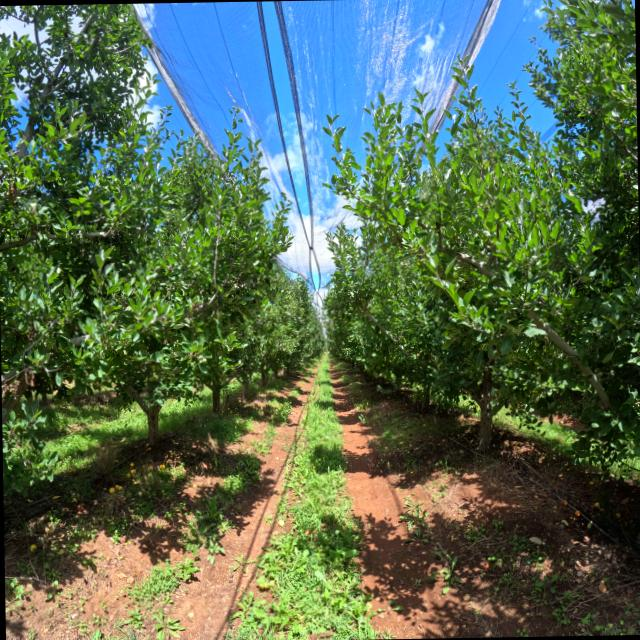-FireBlight-: (1, 365, 34, 399), (188, 300, 206, 323)
